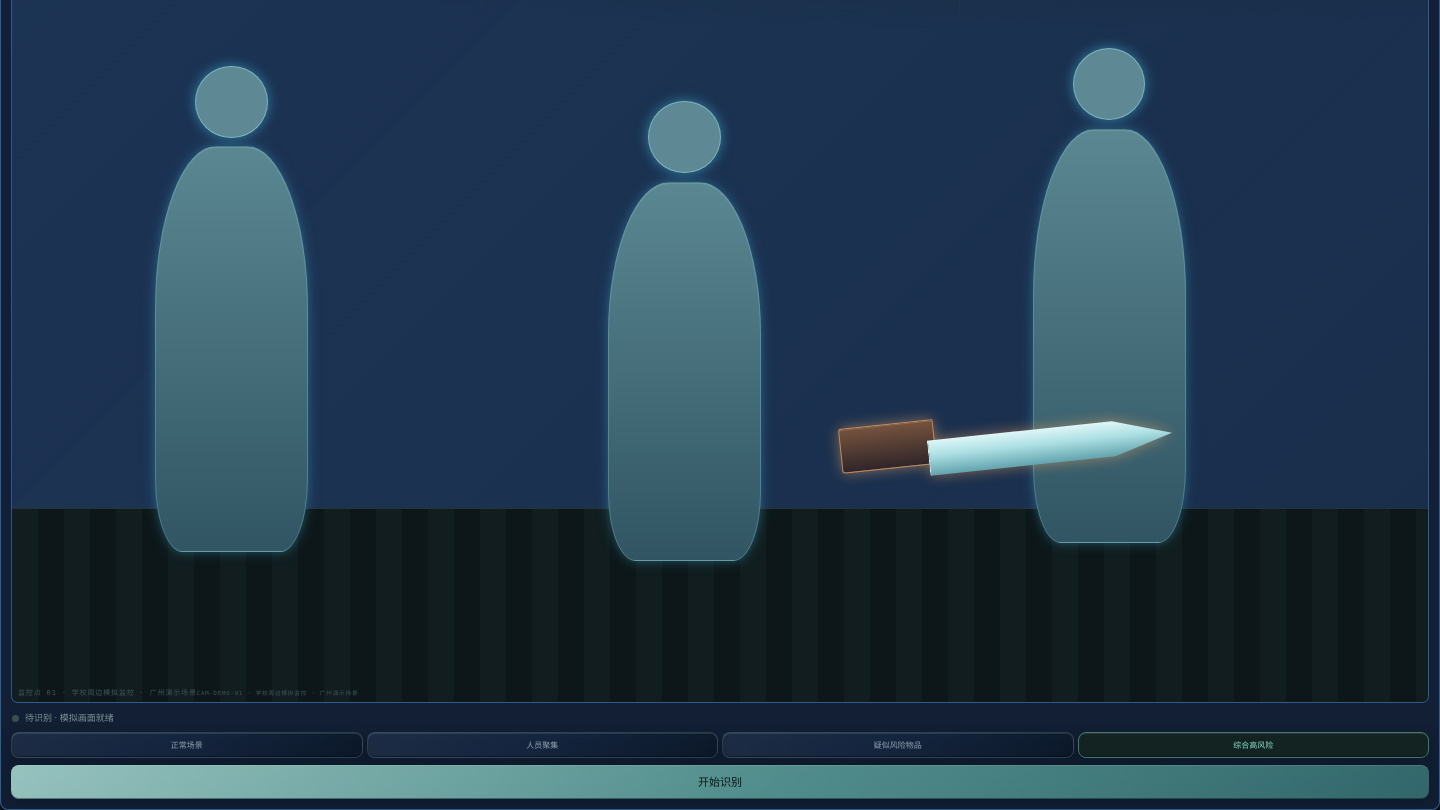
CVDetectionPanel › never claims a confirmed weapon, only 疑似风险物品
(page scrolled)
Click the button "开始识别" at (720, 782), box x1=11 y1=765 x2=1429 y2=799
Wait 2200 ms
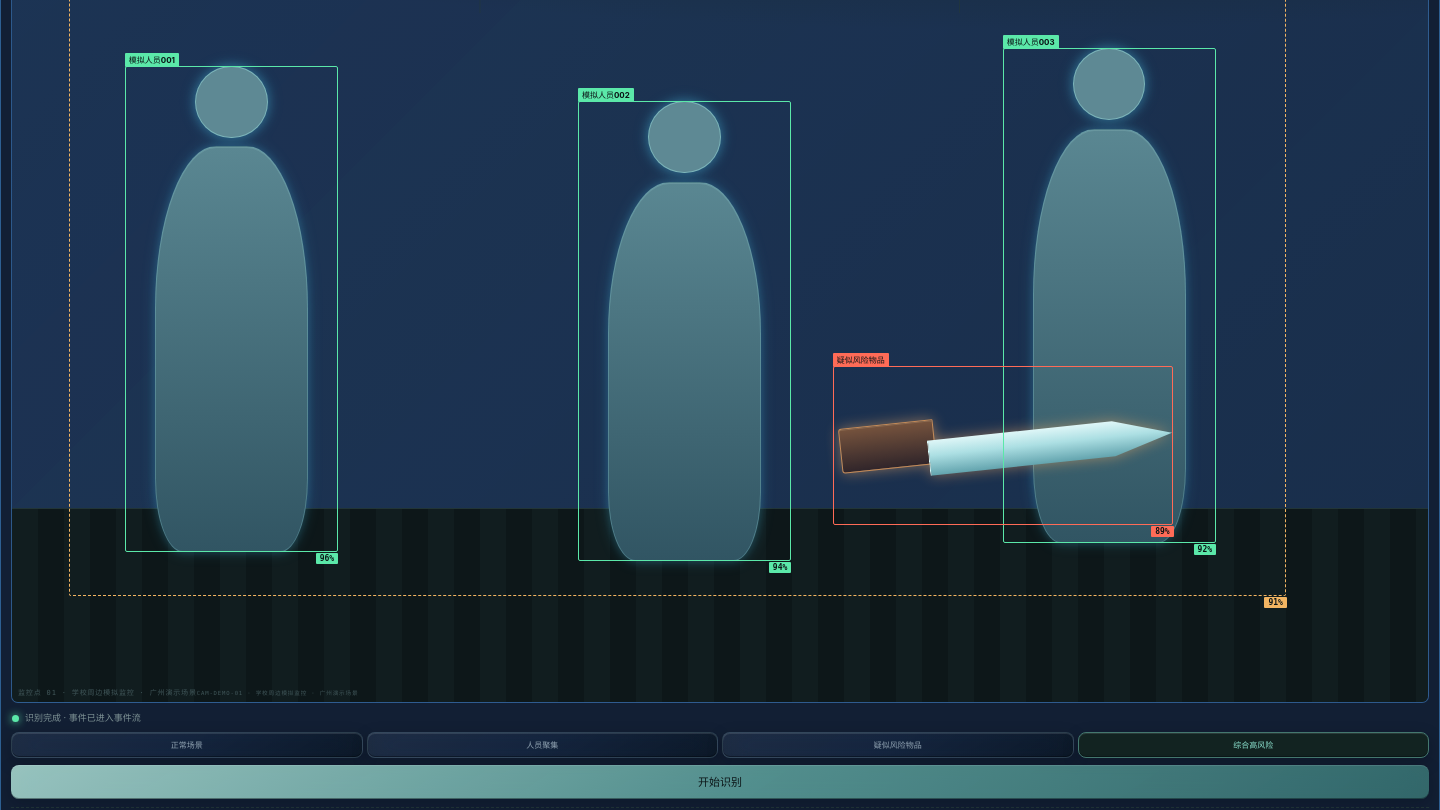
Now the text "疑似风险物品" is shown, box x1=833 y1=353 x2=889 y2=367
